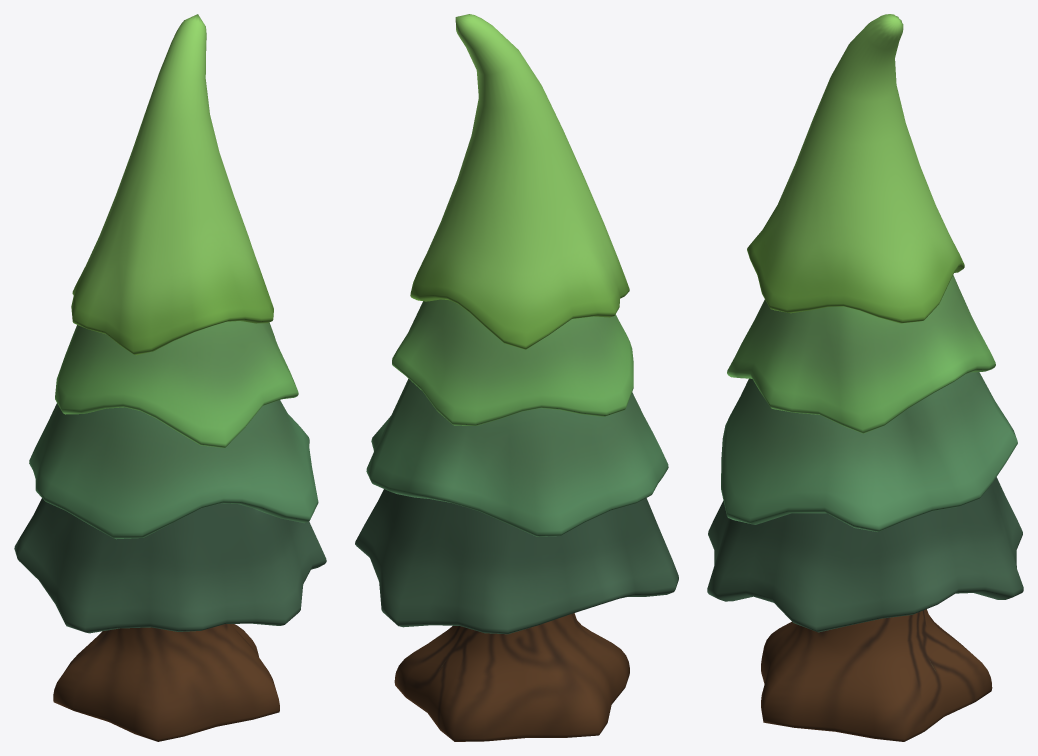
Rendered from tree.fbx.
3 renders of one model, left to right at view 1: azimuth 30°, elevation 25°; view 2: azimuth 150°, elevation 25°; view 3: azimuth 270°, elevation 25°, orthographic. The views are drawn at different scales.
Visible parts, largest first — view 1: tree.036; view 2: tree.036; view 3: tree.036.
Part boxes in pixels (left/top/right/bottom): tree.036: left=14, top=14, right=326, bottom=741; tree.036: left=355, top=14, right=678, bottom=741; tree.036: left=707, top=14, right=1023, bottom=741.
Size of the model in its own units: 371 by 887 by 366.
Materials: 1 (1 with a texture image).
